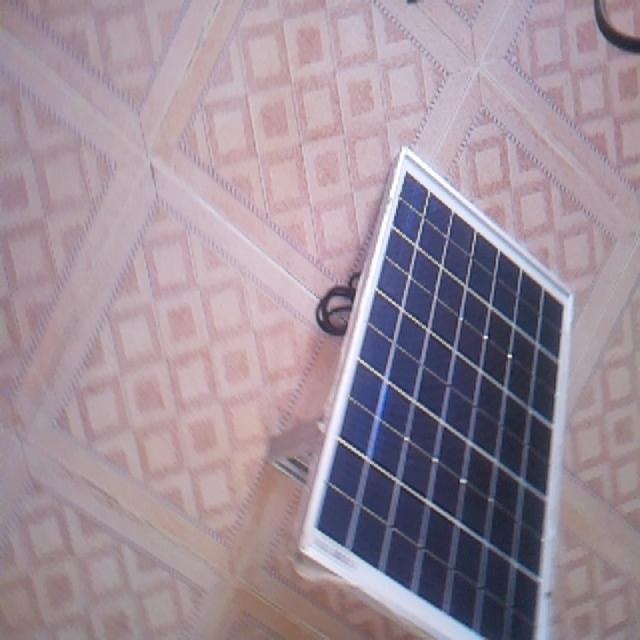Normal Solar Panel: (300, 147, 575, 639)
